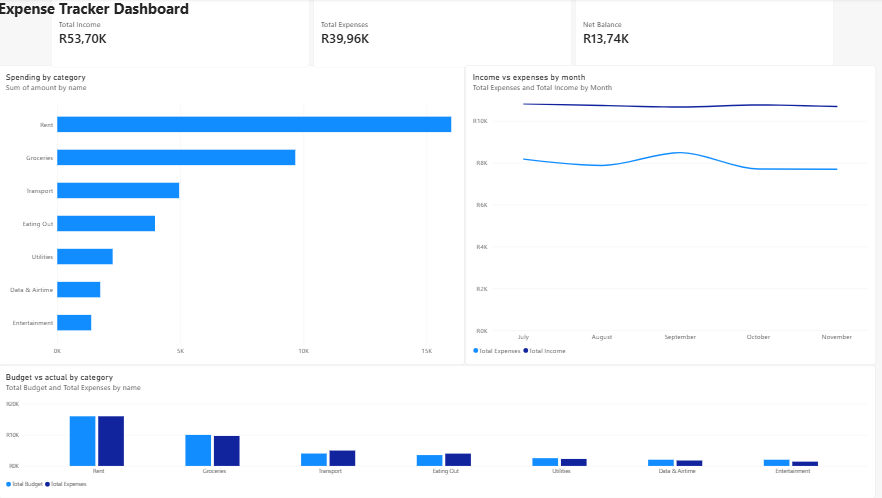

The page's visual inventory and layout, read from the dashboard file:
{"tool":"powerbi","page":{"name":"Page 1","canvas":[1920,1080],"ordinal":0},"visuals":[{"type":"clusteredBarChart","title":"Spending by category","fields":{"Category":["categories.name"],"Y":["Sum(transactions.amount)"]},"box":[0,200.9,1004.4,522.7],"z":0},{"type":"cardVisual","fields":{"Data":["transactions.Total Income","transactions.Total Expenses","transactions.Net Balance"]},"box":[229,0,1691,150],"z":1000},{"type":"lineChart","title":"Income vs expenses by month","fields":{"Category":["transactions.transaction_date.Variation.Date Hierarchy.Month"],"Y":["transactions.Total Expenses","transactions.Total Income"]},"box":[1028.2,149,892.1,667.4],"z":2000},{"type":"clusteredColumnChart","title":"Budget vs actual by category","fields":{"Category":["categories.name"],"Y":["budgets.Total Budget","transactions.Total Expenses"]},"box":[28.1,835.9,1736.6,244.1],"z":4000},{"type":"textbox","box":[1765,836,155,244],"z":4001},{"type":"textbox","box":[0,666,1004,150],"z":4002},{"type":"textbox","box":[100,100,300,300],"z":4003},{"type":"textbox","box":[0,0,1004.4,121],"z":4004}]}

Visuals, with their boxes in screenshot pixels (x1, y1, x2, y2), scaled from the page's 1920x1080 canvas onto the 882x498 screenshot:
"Spending by category" clusteredBarChart: (0,93,461,334)
cardVisual - transactions.Total Income x transactions.Total Expenses: (105,0,881,69)
"Income vs expenses by month" lineChart: (472,69,881,376)
"Budget vs actual by category" clusteredColumnChart: (13,385,811,497)
textbox: (811,385,881,497)
textbox: (0,307,461,376)
textbox: (46,46,184,184)
textbox: (0,0,461,56)
